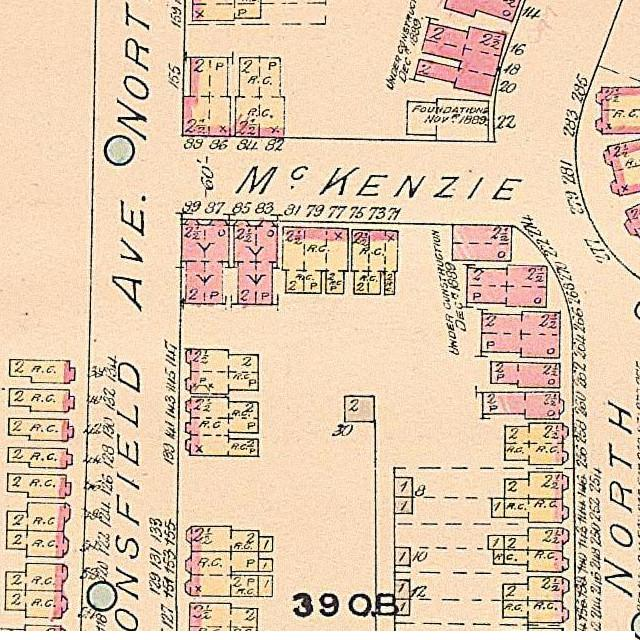building-footprints: (415, 23, 506, 96), (282, 227, 348, 294), (185, 397, 258, 456), (181, 219, 229, 304), (234, 58, 284, 137), (182, 57, 230, 136), (233, 221, 277, 304), (481, 312, 559, 358), (406, 99, 488, 142), (466, 265, 546, 307), (185, 551, 258, 596), (186, 349, 258, 394), (351, 230, 397, 294), (504, 423, 568, 464), (482, 392, 564, 419), (452, 225, 511, 261), (595, 87, 640, 134), (603, 139, 640, 196), (189, 603, 257, 631), (186, 526, 259, 552), (490, 362, 560, 388), (6, 503, 69, 531), (5, 590, 67, 618), (504, 472, 568, 499), (5, 564, 67, 591), (6, 531, 68, 557), (444, 0, 520, 21), (502, 577, 568, 601), (7, 474, 70, 498), (9, 360, 74, 383), (504, 499, 568, 522), (504, 528, 568, 551), (504, 549, 568, 572), (9, 389, 74, 411), (8, 418, 73, 440), (502, 601, 568, 622), (192, 0, 261, 20), (8, 448, 72, 468), (344, 397, 374, 422), (624, 203, 640, 237), (1, 625, 65, 631), (394, 478, 412, 497), (395, 580, 410, 600), (394, 497, 412, 513), (258, 576, 272, 596), (394, 548, 409, 565), (491, 499, 504, 517), (395, 600, 409, 615), (258, 536, 272, 551), (488, 536, 504, 549), (258, 559, 272, 571), (493, 550, 504, 564), (527, 628, 563, 631)
